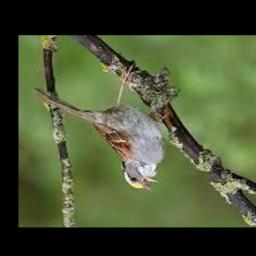Sparrow: (35, 62, 166, 192)
